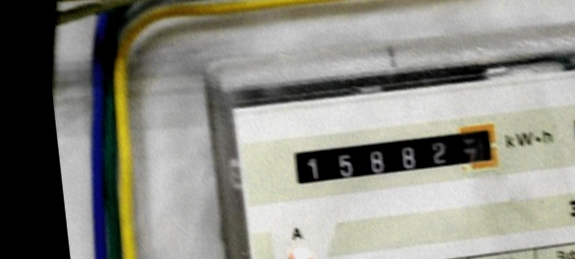1: (305, 154, 322, 181)
2: (430, 137, 449, 165)
5: (336, 151, 355, 177)
7: (462, 144, 478, 162)
8: (398, 142, 417, 169), (367, 147, 386, 173)
screen: (279, 114, 510, 198)
